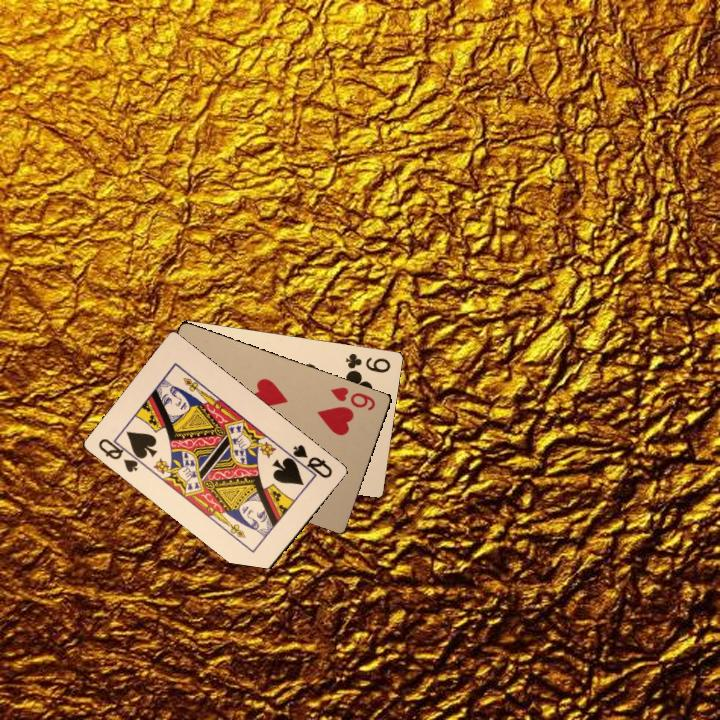6h: (328, 383, 378, 413)
9c: (341, 349, 393, 375)
Qs: (283, 440, 335, 481), (94, 434, 145, 475)
